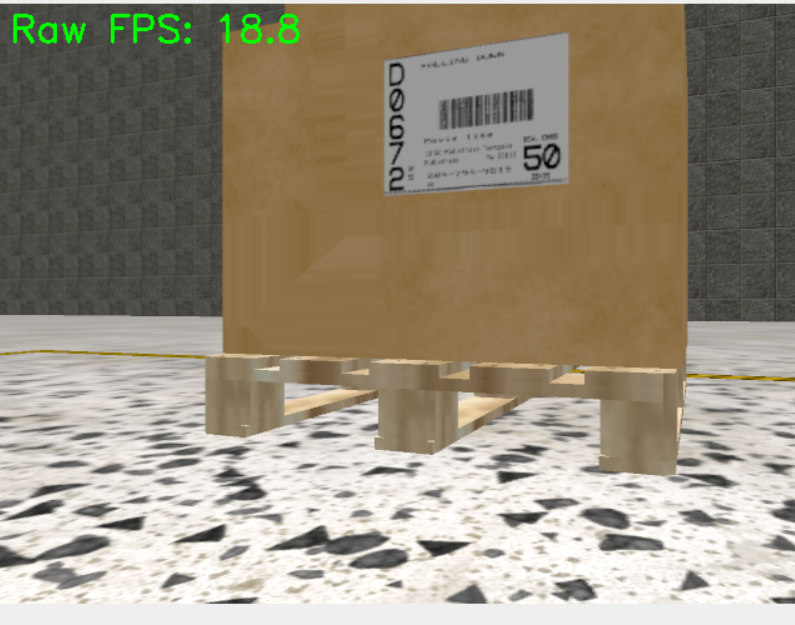barcode: (382, 30, 573, 195)
